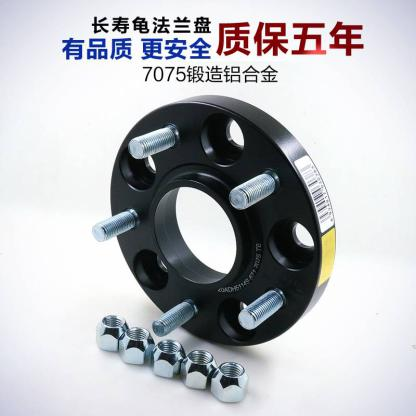FOD: (106, 92, 340, 354), (210, 362, 249, 405), (94, 313, 130, 354), (150, 337, 184, 380), (117, 326, 155, 364), (181, 351, 214, 389)
